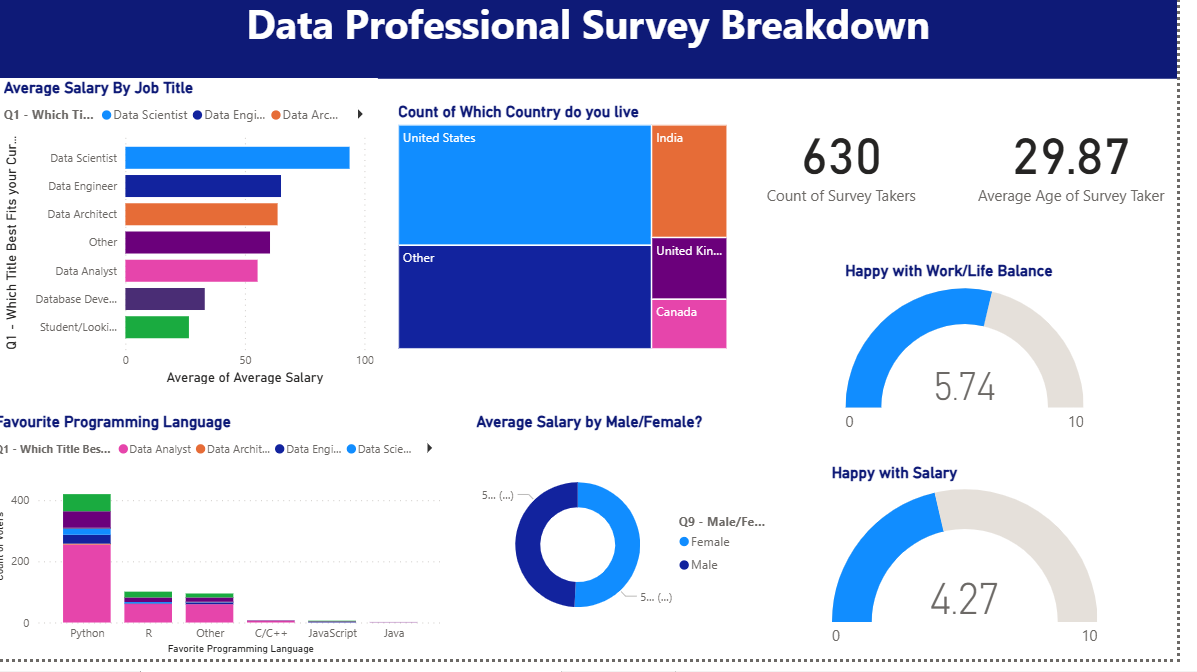

Layout of this report page (visuals, bound fields, positions):
{"tool":"powerbi","page":{"name":"Data Professional Survey Breakdown Dashboard","canvas":[1280,720],"ordinal":0},"visuals":[{"type":"textbox","box":[9.4,0,1270.6,94.4],"z":0},{"type":"card","fields":{"Values":["Count(Data Professional Survey.Unique ID)"]},"box":[806.7,106.8,221,149.2],"z":1000},{"type":"card","fields":{"Values":["Avg(Data Professional Survey.Q10 - Current Age)"]},"box":[1051.6,106.8,228.4,149.2],"z":2000},{"type":"barChart","title":"Average Salary By Job Title","fields":{"Category":["Data Professional Survey.Q1 - Which Title Best Fits your Current Role?.1"],"Y":["Avg(Data Professional Survey.Average Salary)"],"Series":["Data Professional Survey.Q1 - Which Title Best Fits your Current Role?.1"]},"box":[9.2,93.9,408.9,335.2],"z":3000},{"type":"columnChart","title":" Favourite Programming Language","fields":{"Category":["Data Professional Survey.Q5 - Favorite Programming Language.1"],"Y":["CountNonNull(Data Professional Survey.Unique ID)"],"Series":["Data Professional Survey.Q1 - Which Title Best Fits your Current Role?.1"]},"box":[0,454.9,493.6,265.2],"z":4000},{"type":"treemap","title":"Count of Which Country do you live ","fields":{"Group":["Data Professional Survey.Q11 - Which Country do you live in?.1"],"Values":["CountNonNull(Data Professional Survey.Q11 - Which Country do you live in?.1)"]},"box":[434.6,119.7,364.7,270.7],"z":5000},{"type":"gauge","title":"Happy with Work/Life Balance","fields":{"Y":["Avg(Data Professional Survey.Q6 - How Happy are you in your Current Position with the following? (Work/Life Balance))"],"MinValue":["Min(Data Professional Survey.Q6 - How Happy are you in your Current Position with the following? (Work/Life Balance))1"],"MaxValue":["Max(Data Professional Survey.Q6 - How Happy are you in your Current Position with the following? (Work/Life Balance))2"]},"box":[917.2,291,267.1,198.9],"z":6000},{"type":"gauge","title":"Happy with Salary","fields":{"Y":["Avg(Data Professional Survey.Q6 - How Happy are you in your Current Position with the following? (Salary))"],"MinValue":["Min(Data Professional Survey.Q6 - How Happy are you in your Current Position with the following? (Salary))1"],"MaxValue":["Max(Data Professional Survey.Q6 - How Happy are you in your Current Position with the following? (Salary))2"]},"box":[902.4,510.2,296.5,210],"z":7000},{"type":"donutChart","title":" Average Salary by Male/Female?","fields":{"Category":["Data Professional Survey.Q9 - Male/Female?"],"Y":["Avg(Data Professional Survey.Average Salary)"]},"box":[519.4,454.9,331.5,265.2],"z":8000}]}

Visuals, with their boxes in screenshot pixels (x1, y1, x2, y2), scaled from the page's 1280x720 canvas onto the 1197x672 screenshot:
textbox: box=[9, 0, 1196, 88]
card - Count(Data Professional Survey.Unique ID): box=[754, 100, 961, 239]
card - Avg(Data Professional Survey.Q10 - Current Age): box=[983, 100, 1196, 239]
"Average Salary By Job Title" barChart: box=[9, 88, 391, 400]
" Favourite Programming Language" columnChart: box=[0, 425, 462, 671]
"Count of Which Country do you live " treemap: box=[406, 112, 747, 364]
"Happy with Work/Life Balance" gauge: box=[858, 272, 1108, 457]
"Happy with Salary" gauge: box=[844, 476, 1121, 671]
" Average Salary by Male/Female?" donutChart: box=[486, 425, 796, 671]
